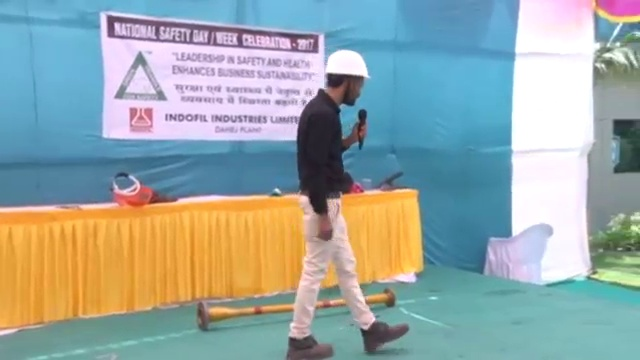helmet: (325, 48, 372, 81)
helmet_on: (322, 48, 374, 108)
person: (281, 48, 408, 358)
